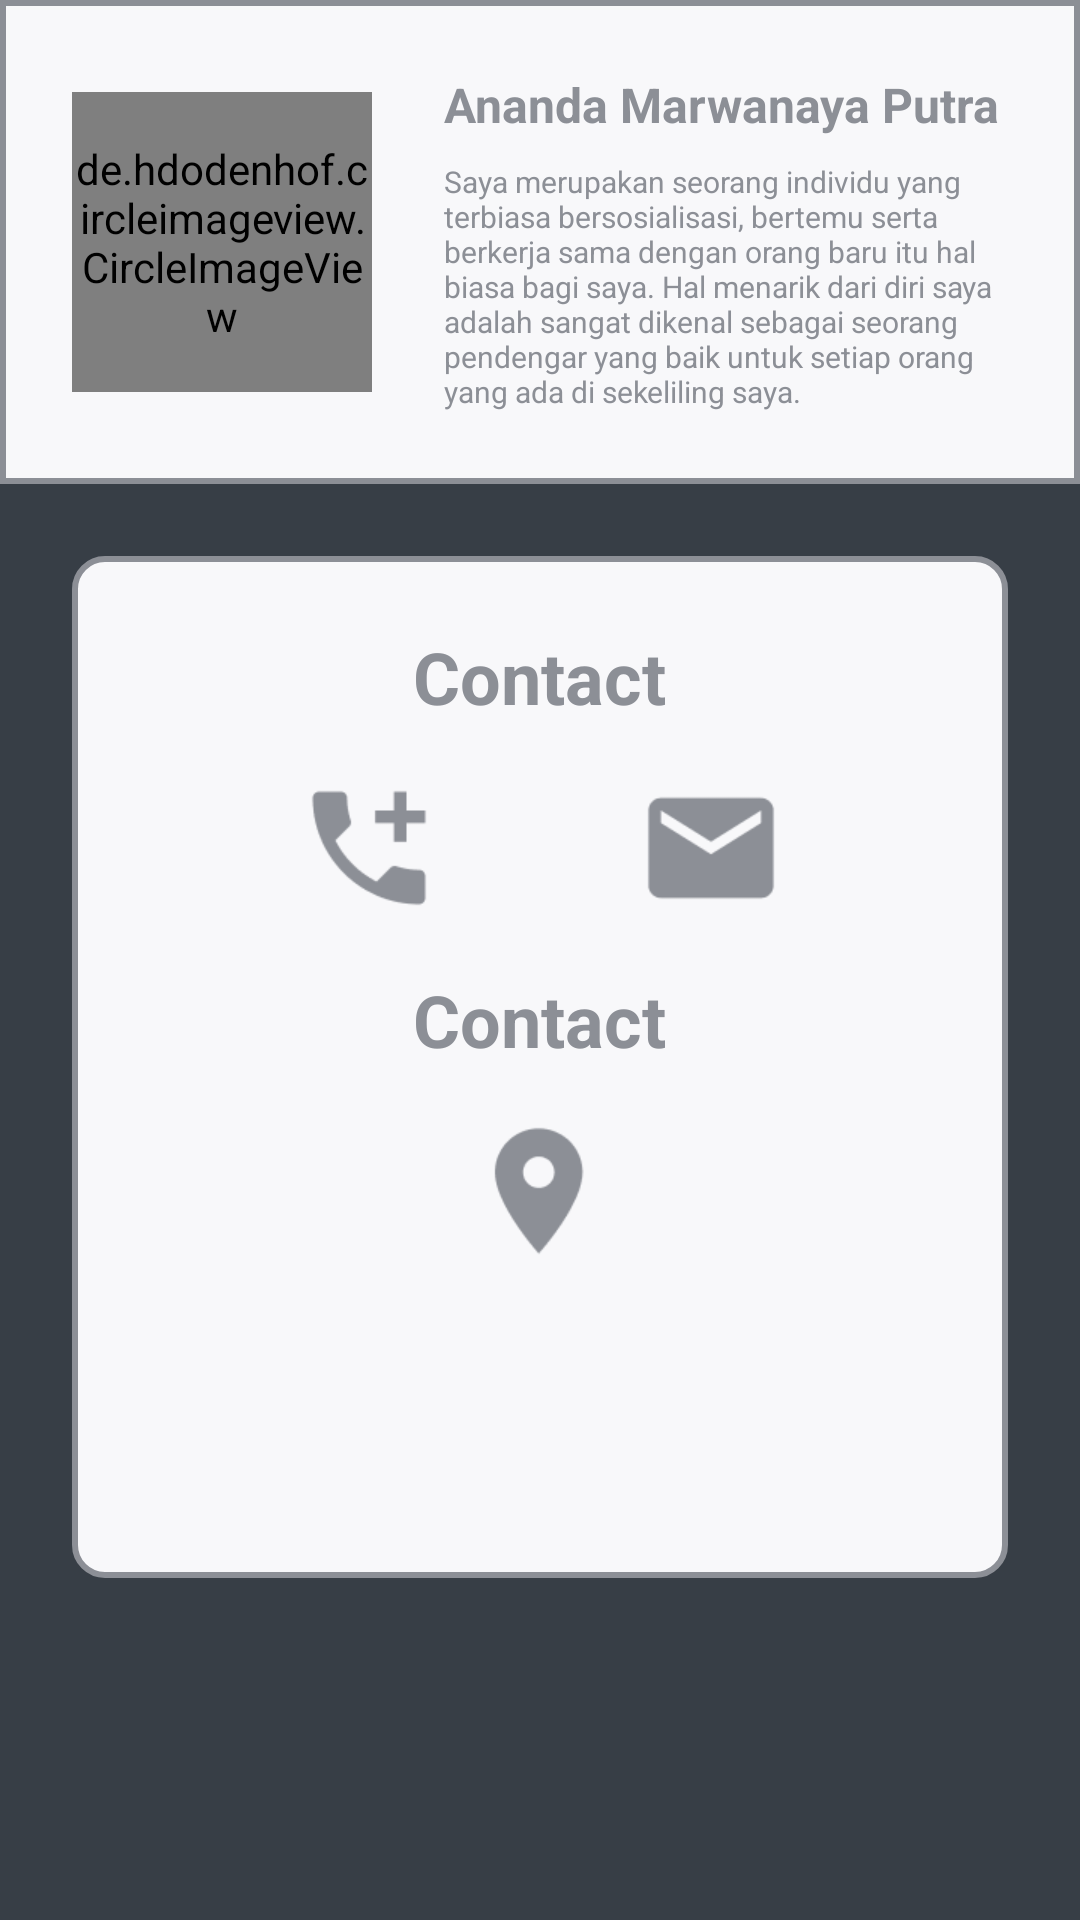

Icons on this 1080w x 1920h Android screen, each with its box as {"x1": x1, "y1": y1, "x2": x2, "y2": y2}:
add call: {"x1": 312, "y1": 791, "x2": 426, "y2": 905}
email: {"x1": 648, "y1": 797, "x2": 774, "y2": 899}
place: {"x1": 495, "y1": 1128, "x2": 583, "y2": 1254}
